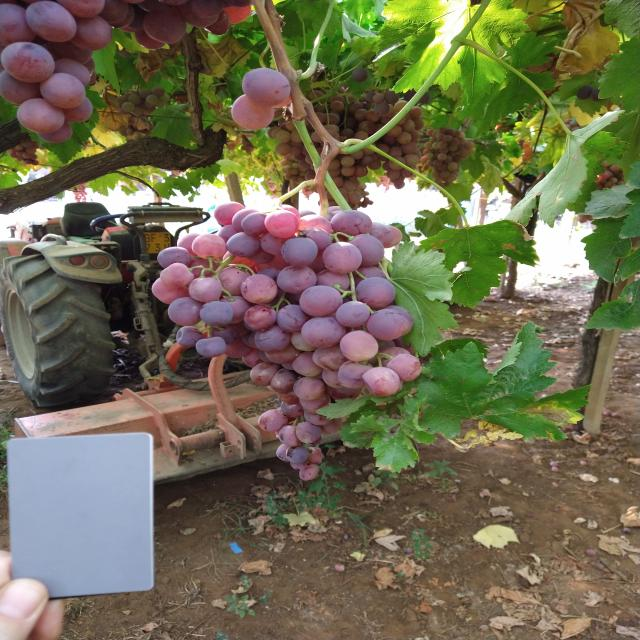grapes: (25, 0, 78, 43), (0, 43, 55, 83), (242, 68, 291, 107), (16, 97, 66, 134), (39, 73, 86, 109), (67, 15, 114, 49), (146, 6, 188, 44), (232, 94, 275, 130), (0, 3, 36, 46), (299, 285, 343, 318), (0, 69, 41, 103), (301, 317, 346, 347), (366, 309, 409, 340), (355, 277, 396, 309), (322, 242, 362, 274), (339, 330, 378, 362), (47, 38, 94, 64), (347, 234, 384, 266), (280, 237, 318, 268), (330, 210, 372, 238), (277, 265, 317, 294), (178, 0, 219, 28), (53, 58, 91, 88), (362, 367, 400, 397), (152, 277, 192, 305), (379, 305, 414, 336), (218, 266, 251, 298), (312, 346, 351, 373), (241, 275, 277, 304), (338, 360, 374, 388), (255, 326, 291, 354), (264, 210, 300, 238), (168, 297, 202, 326), (102, 0, 135, 29), (387, 354, 421, 382), (198, 301, 234, 327), (56, 0, 105, 19), (38, 117, 72, 144), (277, 304, 308, 333), (336, 301, 370, 327), (62, 95, 94, 122), (351, 266, 387, 290), (250, 361, 283, 387), (244, 305, 277, 331), (161, 263, 194, 289), (226, 232, 260, 257), (220, 296, 250, 324), (134, 24, 166, 50), (213, 201, 246, 226), (292, 352, 323, 378), (195, 234, 227, 259), (189, 278, 222, 302), (94, 0, 128, 23), (232, 208, 262, 234), (264, 343, 301, 364), (200, 9, 231, 34), (315, 269, 350, 291), (157, 247, 190, 270), (298, 214, 332, 236), (293, 376, 325, 399), (376, 347, 411, 368), (299, 392, 331, 414), (241, 212, 270, 236), (258, 409, 288, 432), (270, 368, 296, 394), (189, 0, 225, 18), (369, 222, 393, 248), (177, 232, 203, 256), (260, 233, 287, 256), (224, 337, 253, 358), (176, 326, 203, 348), (223, 6, 252, 26), (296, 422, 322, 444), (210, 326, 240, 345), (200, 337, 227, 358), (326, 386, 361, 402), (290, 332, 318, 352), (216, 224, 243, 243), (278, 425, 301, 447), (380, 225, 402, 248), (307, 230, 332, 250), (128, 8, 148, 30), (243, 348, 265, 368), (319, 415, 342, 434), (280, 400, 304, 418), (204, 277, 222, 301), (323, 369, 344, 389), (246, 250, 275, 264), (256, 267, 281, 283), (304, 412, 332, 426), (277, 204, 301, 220), (286, 446, 308, 463), (139, 0, 168, 12), (299, 464, 318, 482), (276, 444, 293, 462), (352, 66, 368, 84), (376, 338, 396, 352), (306, 447, 322, 464), (276, 391, 298, 403), (222, 0, 254, 8), (373, 101, 390, 116), (388, 157, 406, 170), (358, 121, 376, 134), (298, 210, 316, 222), (276, 130, 291, 144), (403, 154, 419, 167), (401, 142, 418, 154), (348, 101, 364, 113), (387, 125, 401, 138), (118, 23, 136, 33), (158, 0, 188, 6), (396, 132, 411, 144), (120, 101, 136, 112), (152, 85, 165, 98), (385, 91, 398, 104), (354, 108, 366, 122), (275, 144, 289, 156), (323, 124, 337, 136), (386, 169, 401, 180), (409, 106, 422, 118), (394, 100, 408, 111), (402, 120, 416, 131), (120, 0, 144, 6), (132, 106, 145, 117), (341, 156, 355, 166), (388, 147, 402, 157), (342, 181, 356, 191), (368, 160, 382, 170), (138, 90, 153, 99), (160, 92, 172, 103), (146, 95, 159, 105), (331, 101, 344, 111), (355, 131, 368, 141), (341, 167, 355, 176), (129, 94, 140, 105), (355, 166, 366, 177), (349, 193, 360, 204), (290, 462, 306, 469), (448, 162, 458, 171), (394, 181, 405, 189), (118, 95, 129, 102), (438, 153, 447, 161), (157, 101, 166, 108), (125, 128, 133, 135), (337, 87, 345, 94), (420, 156, 428, 163), (427, 128, 434, 136)
